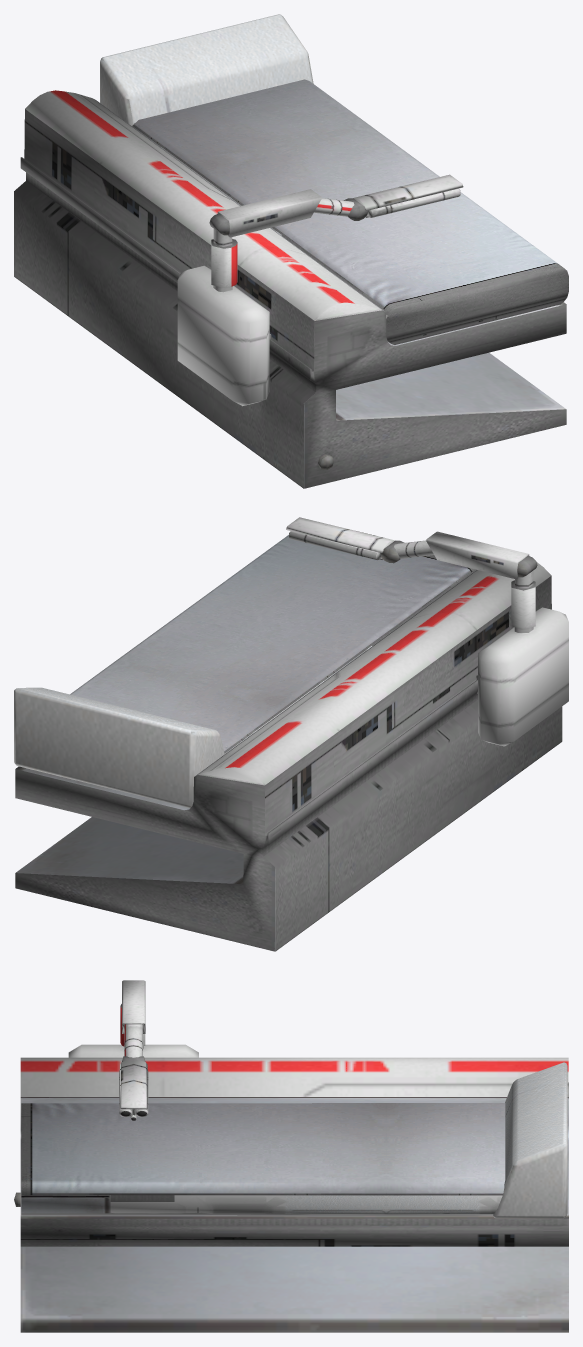
Rendered from BedMedical01.FBX.
3 views of the same model, one above another, from view 1: azimuth 30°, elevation 25°; view 2: azimuth 150°, elevation 25°; view 3: azimuth 270°, elevation 25° (orthographic). The views are drawn at different scales.
Visible parts, largest first — view 1: BedMedical01; view 2: BedMedical01; view 3: BedMedical01.
Part boxes in pixels (<box>): BedMedical01: <box>14,14,568,488</box>; BedMedical01: <box>14,517,568,951</box>; BedMedical01: <box>14,980,568,1332</box>.
Size of the model in its own units: 1.59 by 1.16 by 2.63.
